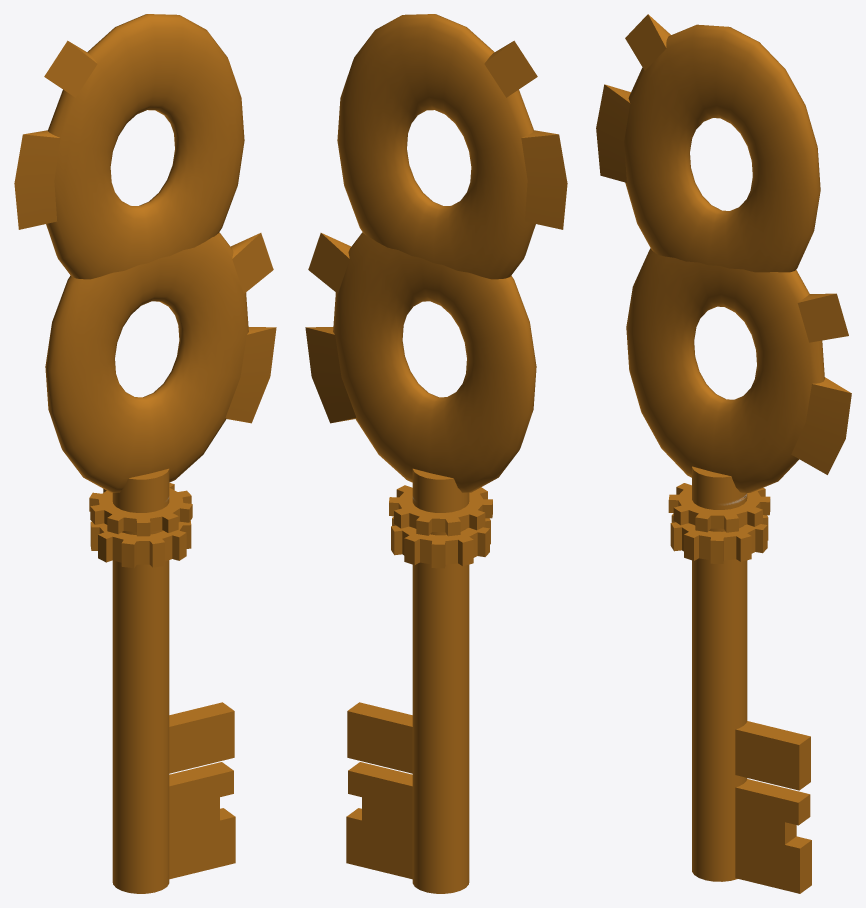
File: key1_contents.fbx
3 views of the same model, side by side, from view 1: azimuth 30°, elevation 25°; view 2: azimuth 150°, elevation 25°; view 3: azimuth 330°, elevation 25° (orthographic). The views are drawn at different scales.
Parts seen in each view (by area): view 1: pTorus4; view 2: pTorus4; view 3: pTorus4.
Part boxes in pixels (x1,y1,x2,y2): pTorus4: [14, 14, 276, 893]; pTorus4: [305, 14, 567, 893]; pTorus4: [596, 14, 851, 893].
Size of the model in its own units: 30.28 by 95.6 by 10.44.
